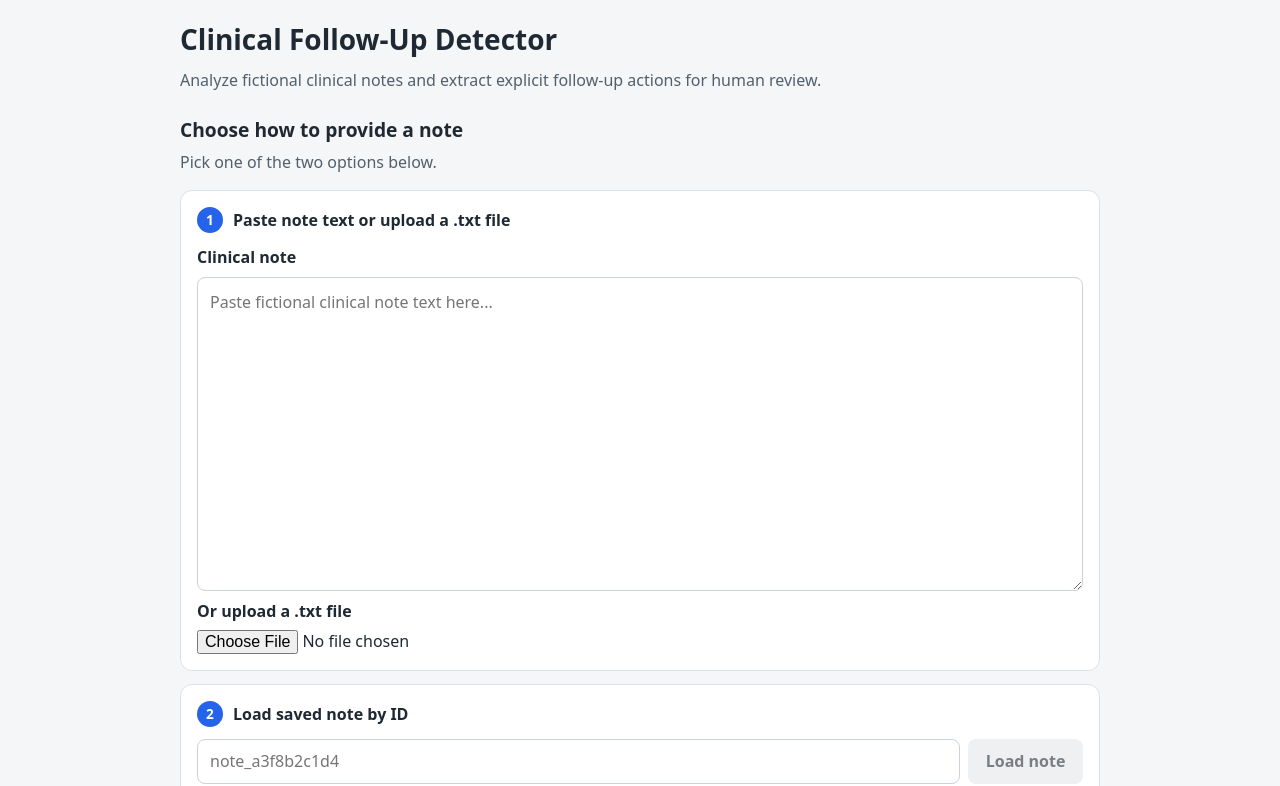
analyze flow › loads a saved note from the load form
Type "note_saved" into the field named "load saved note by id" at {"x": 579, "y": 761}, box [197,739,960,784]
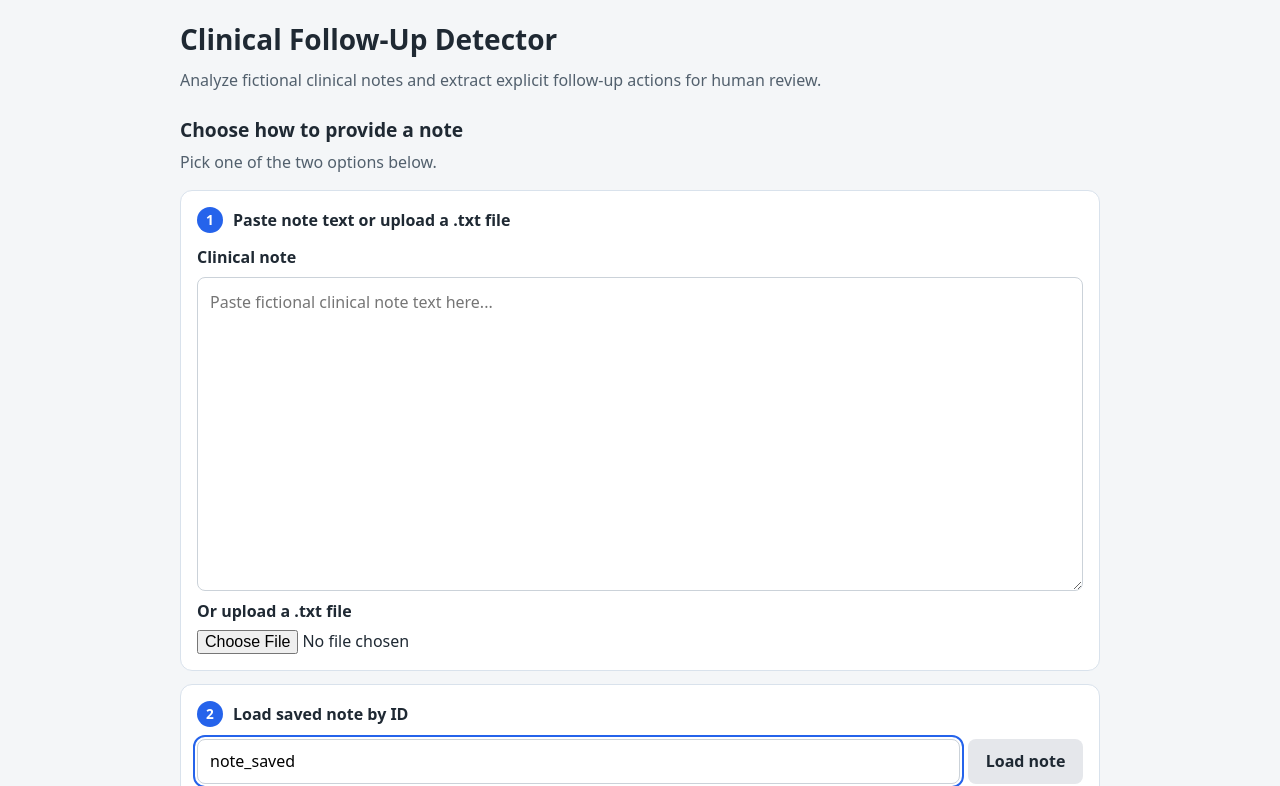
Click the button "Load note" at {"x": 1026, "y": 761}, box [968,739,1083,784]
(page scrolled)
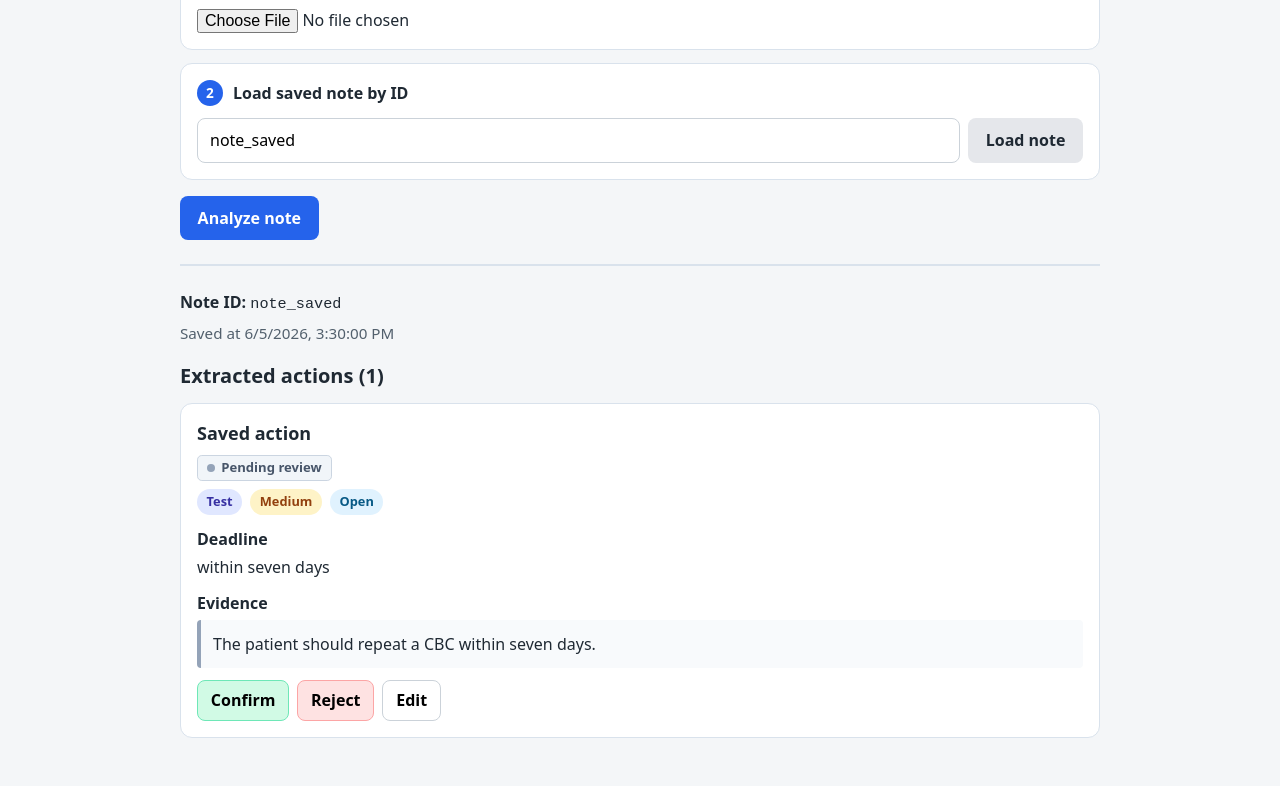
Result: the text "note_saved" is shown at [250,295,341,313]
Result: the heading "Saved action" is shown at [197,420,311,446]
